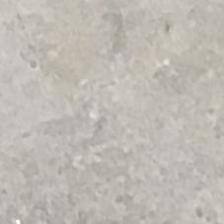Non_Crack: (16, 22, 224, 190)
